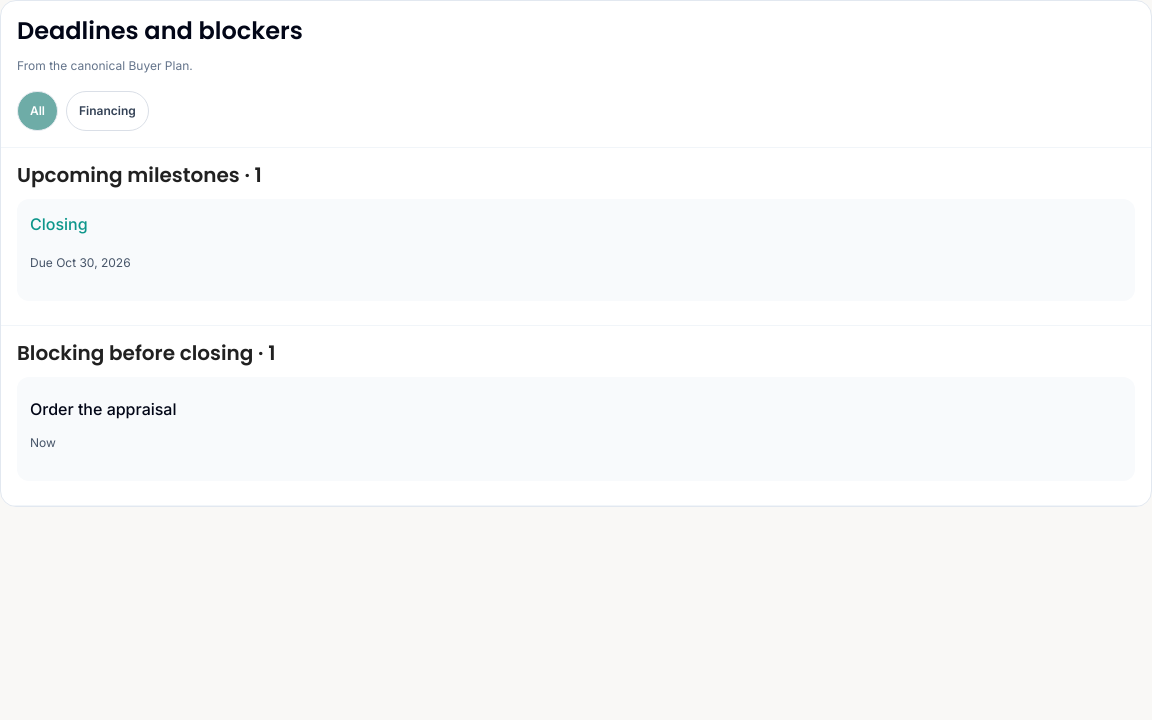
Test: a task completed since the list was read offers no action
Click the button "Order the appraisal" at (103, 410), box [30,390,176,430]
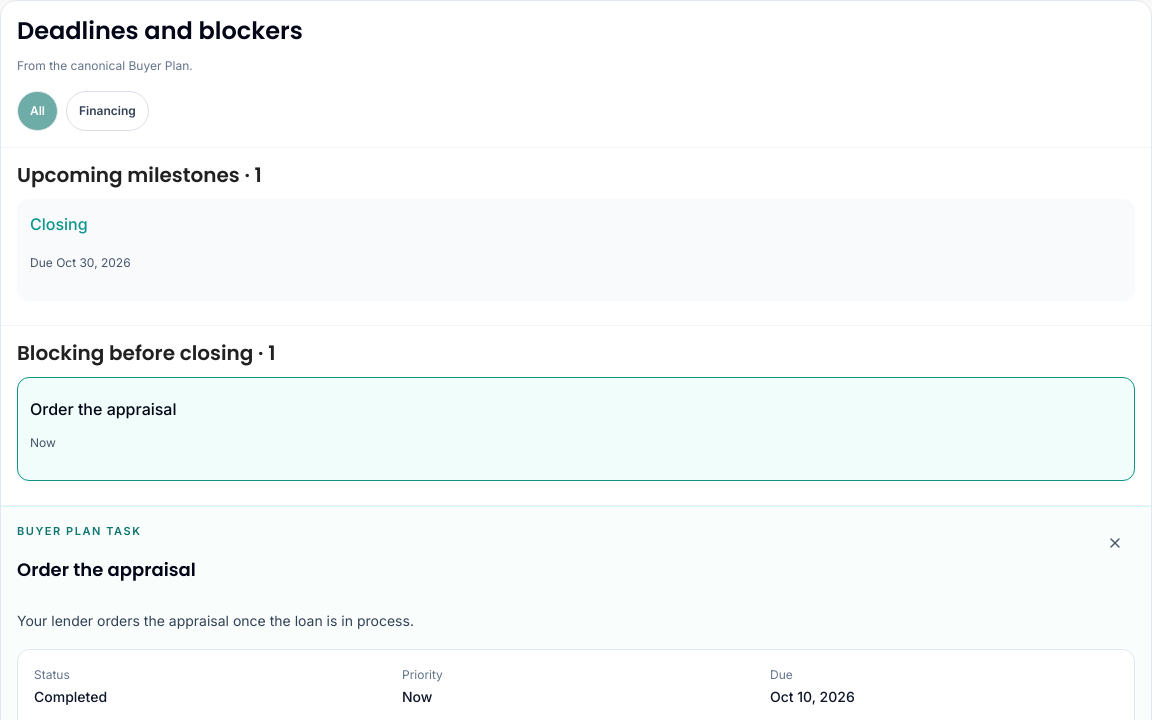
Expected: the text "Completed" is shown, [34,688,107,705]
